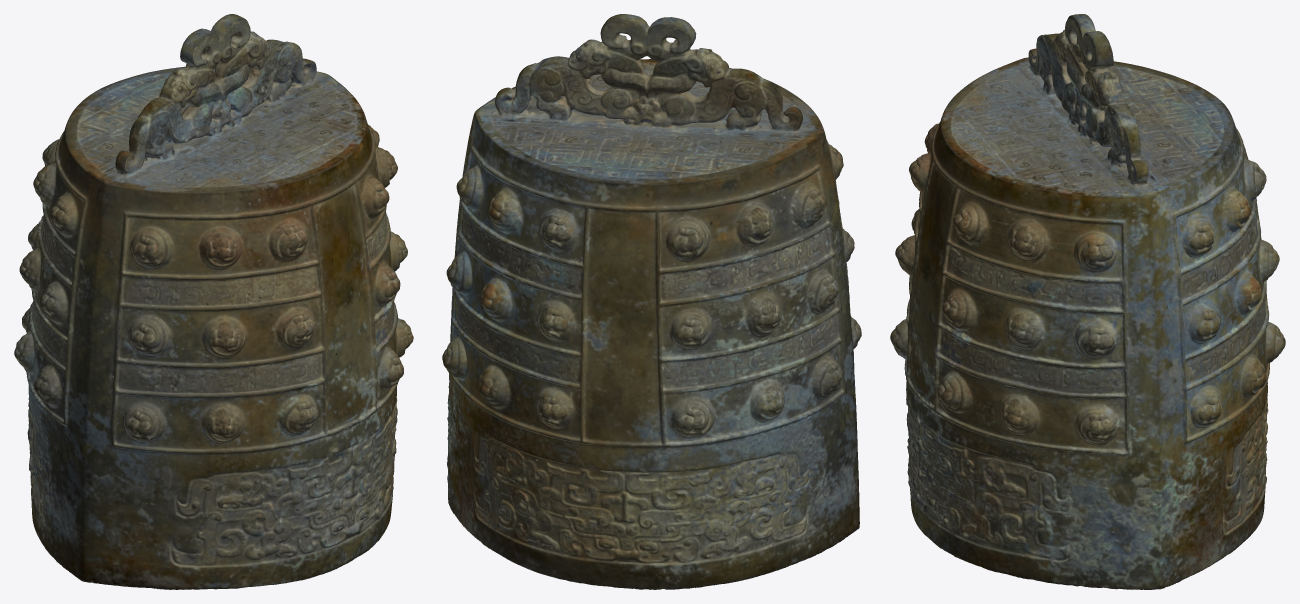
The model's file is handaiqingtongbianzhong.glb.
3 views of the same model, side by side, from view 1: azimuth 30°, elevation 25°; view 2: azimuth 150°, elevation 25°; view 3: azimuth 270°, elevation 25° (orthographic). The views are drawn at different scales.
Visible parts, largest first — view 1: default; view 2: default; view 3: default.
Boxes of the visible parts, <box> form: default: <box>14,14,413,589</box>; default: <box>442,14,861,589</box>; default: <box>890,14,1285,589</box>.
Bounding box in the file's own units: 4.97 × 6.44 × 4.75.
1 material, 1 textured.
